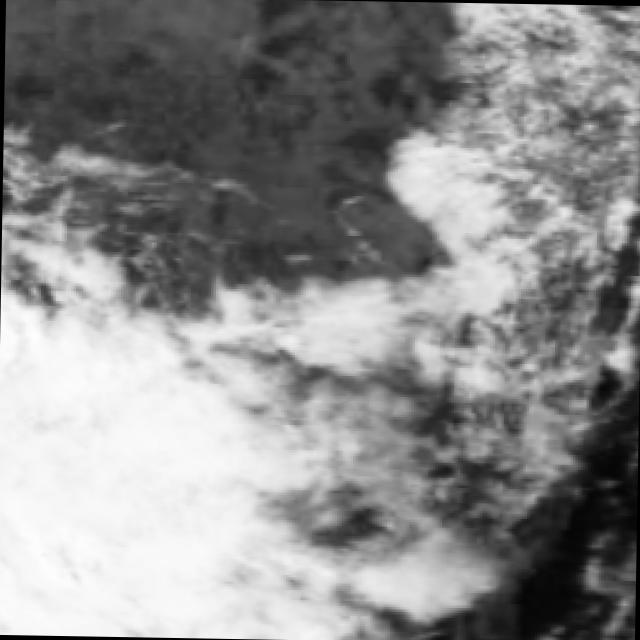CB: (0, 338, 166, 637), (0, 396, 219, 593)
